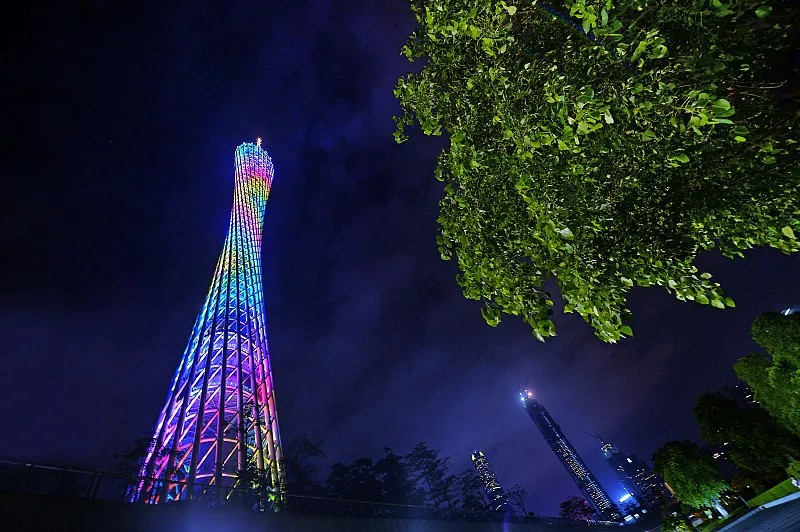Canton: (120, 133, 291, 505)
